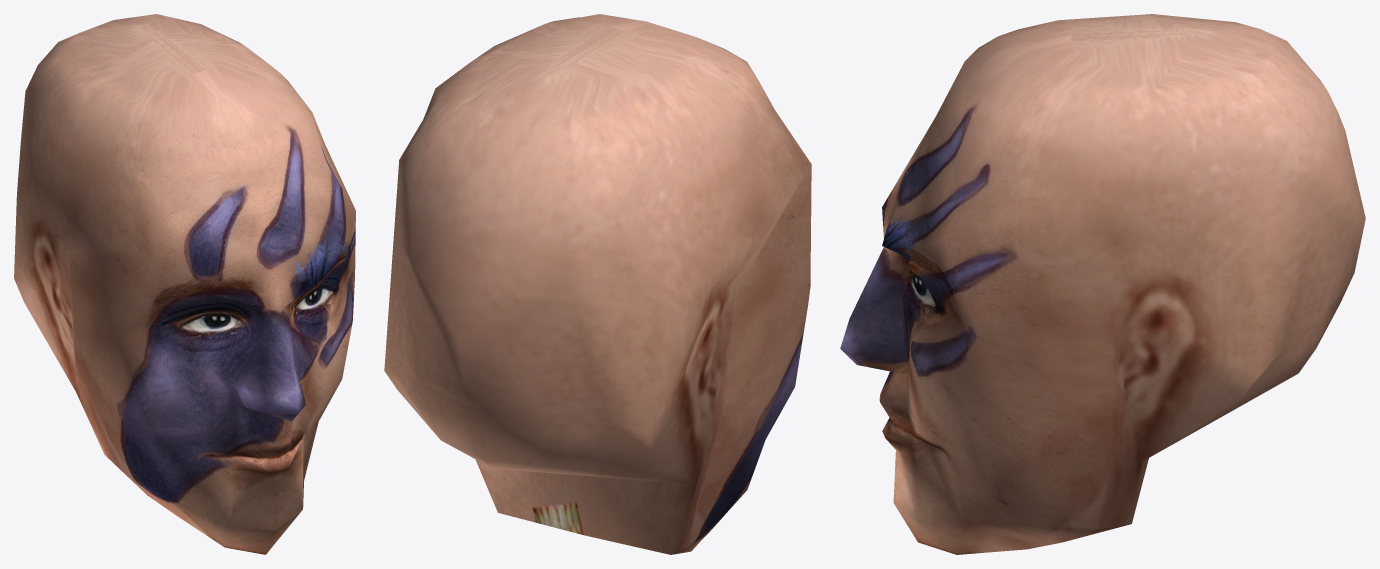
Rendered from b_n_nord_m_head_07.glb.
3 renders of one model, left to right at view 1: azimuth 30°, elevation 25°; view 2: azimuth 150°, elevation 25°; view 3: azimuth 270°, elevation 25°, orthographic. The views are drawn at different scales.
Parts seen in each view (by area): view 1: Tri B_N_Nord_M_Head_07; view 2: Tri B_N_Nord_M_Head_07; view 3: Tri B_N_Nord_M_Head_07.
Boxes of the visible parts, x1,y1,x2,y2 form: Tri B_N_Nord_M_Head_07: (14,14,355,554); Tri B_N_Nord_M_Head_07: (384,14,811,554); Tri B_N_Nord_M_Head_07: (840,14,1365,554).
Size of the model in its own units: 0.0957 by 0.1646 by 0.1536.
Materials: 1 (1 with a texture image).
